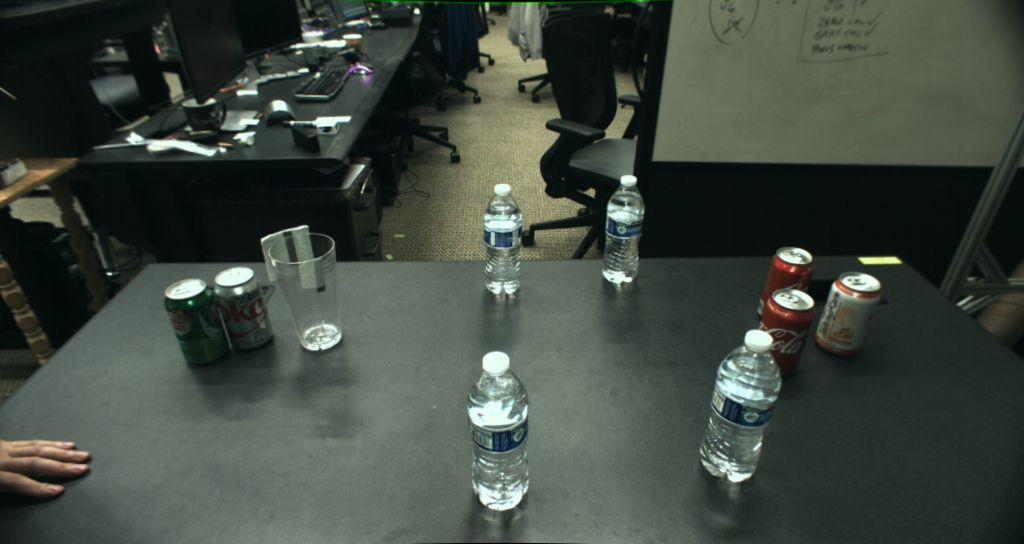can_diet_coke: (213, 266, 275, 352)
can_ginger_ale: (166, 278, 230, 365)
can_talking_rain_peach_nectarine: (814, 270, 881, 357)
water_bottle: (700, 329, 781, 483), (467, 351, 528, 511), (602, 175, 644, 284), (483, 183, 522, 294)
